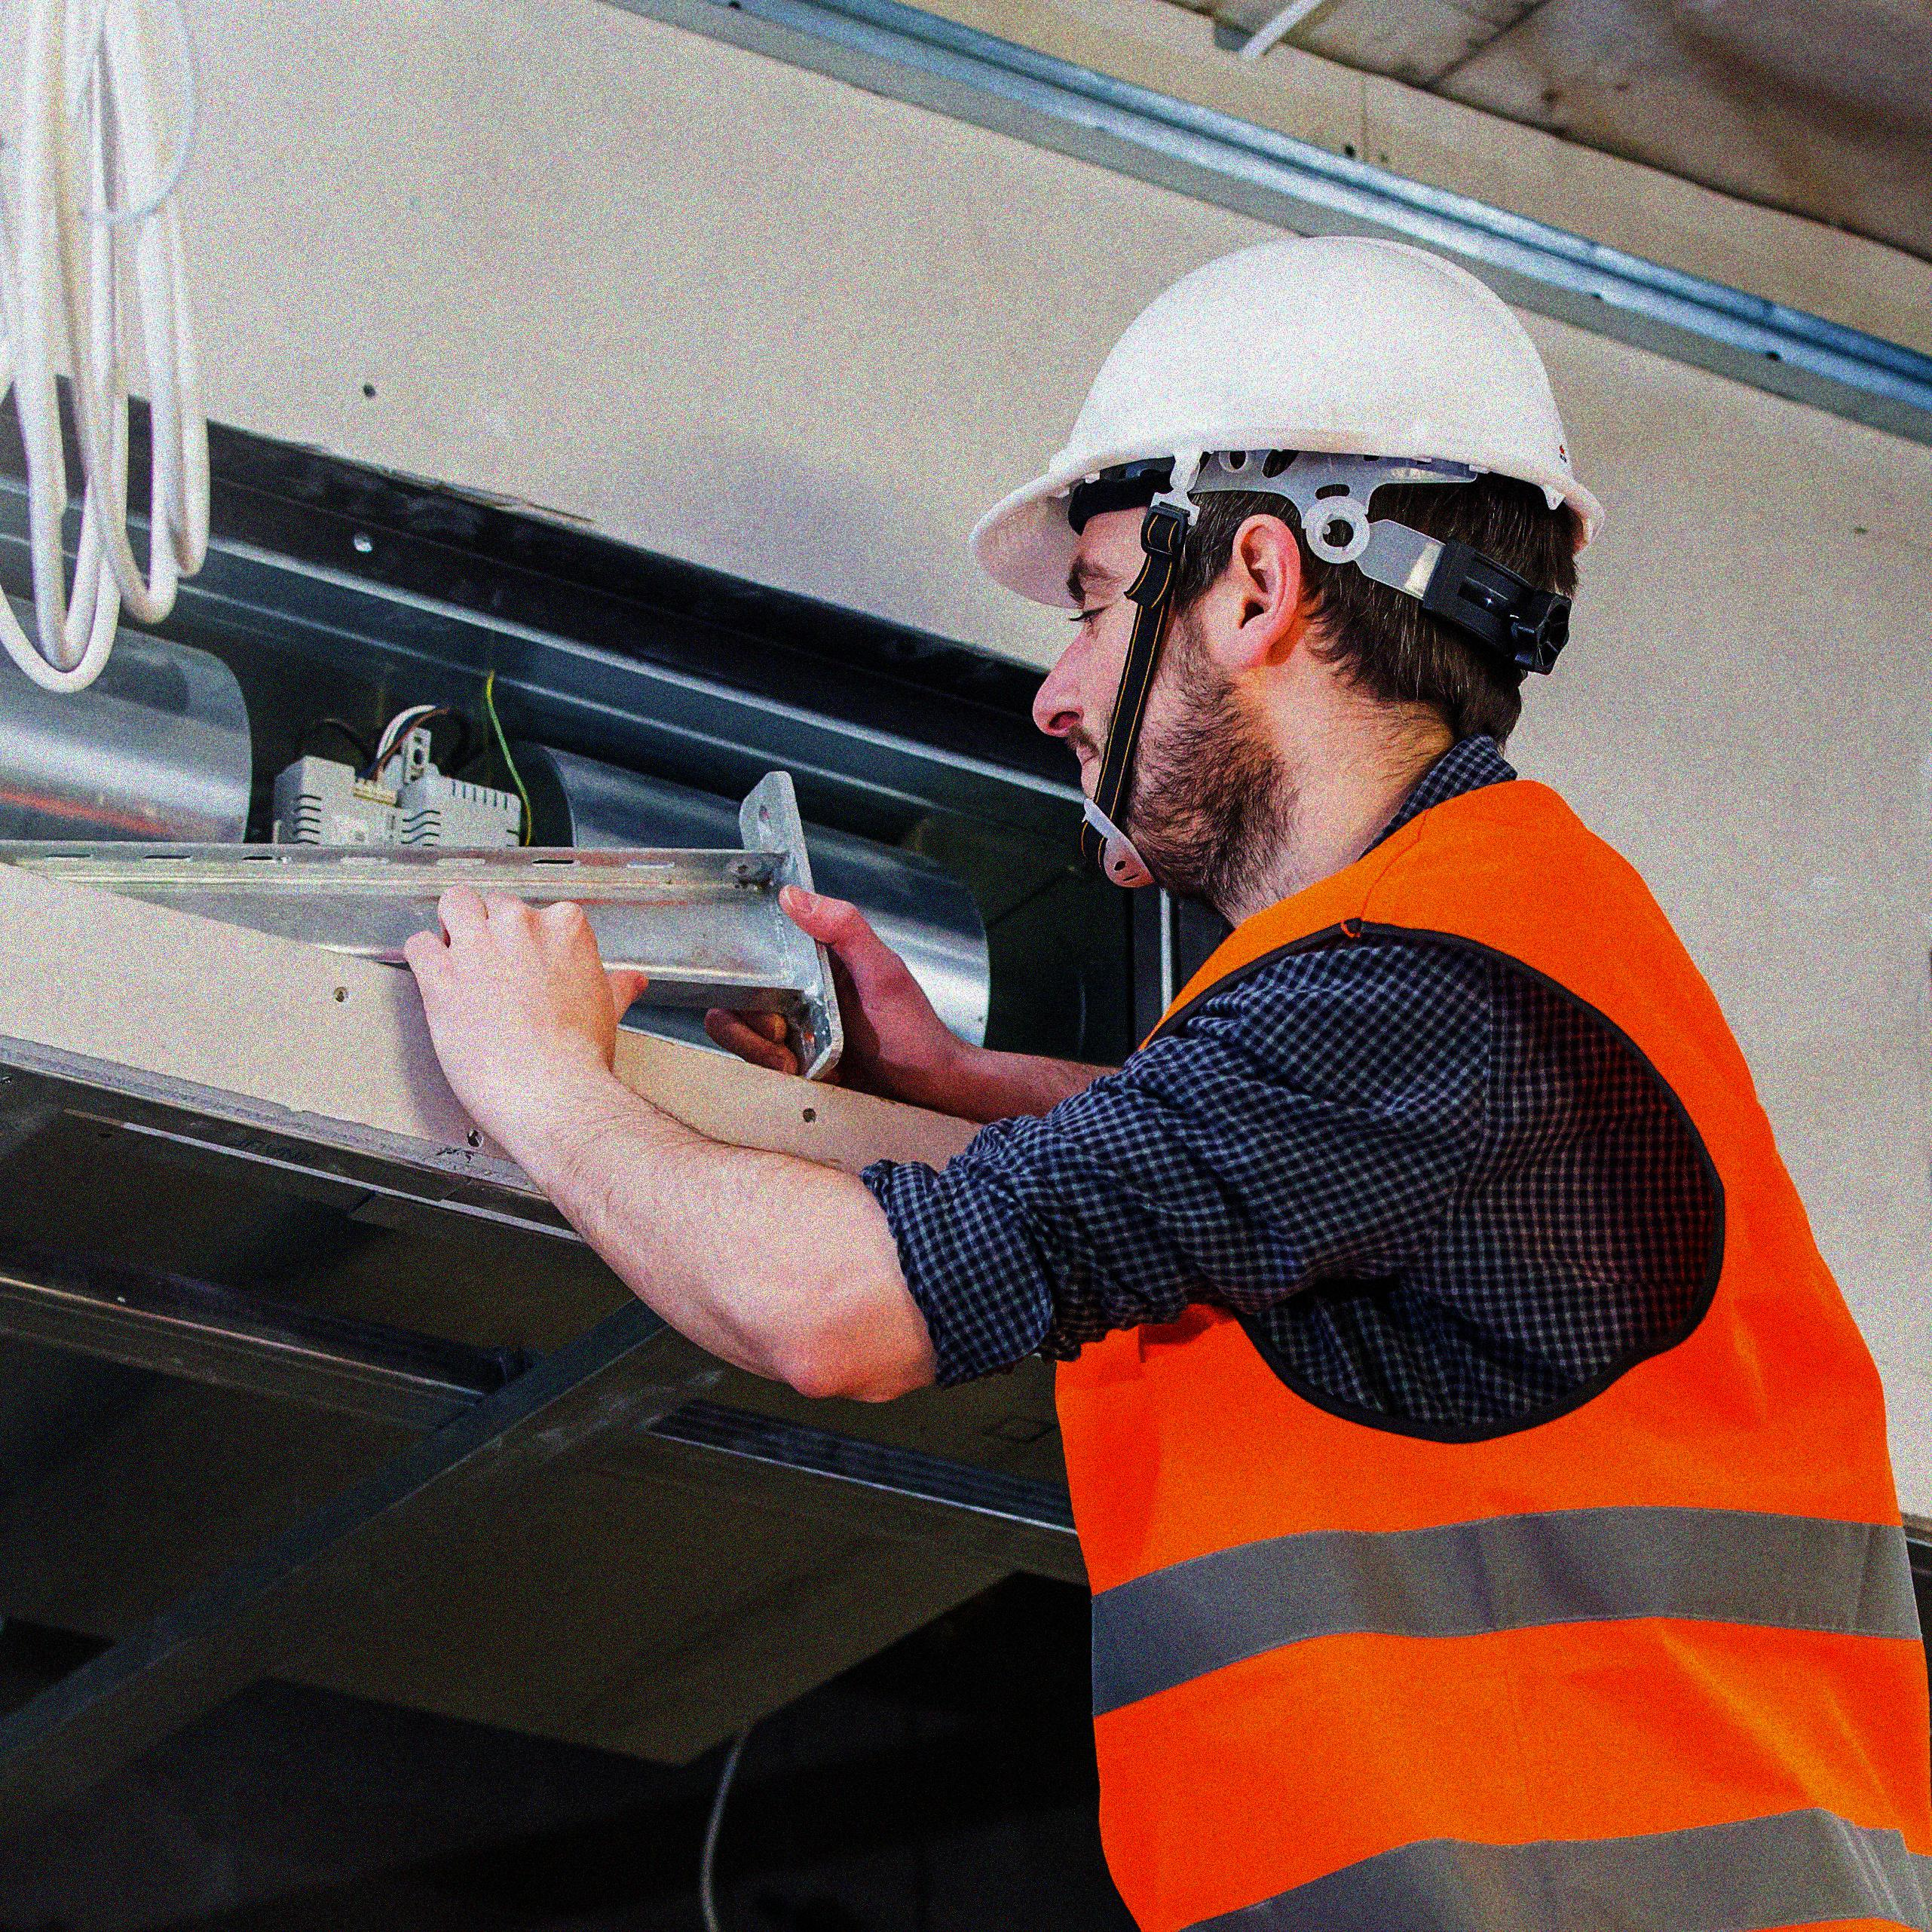helmet: (975, 225, 1606, 911)
